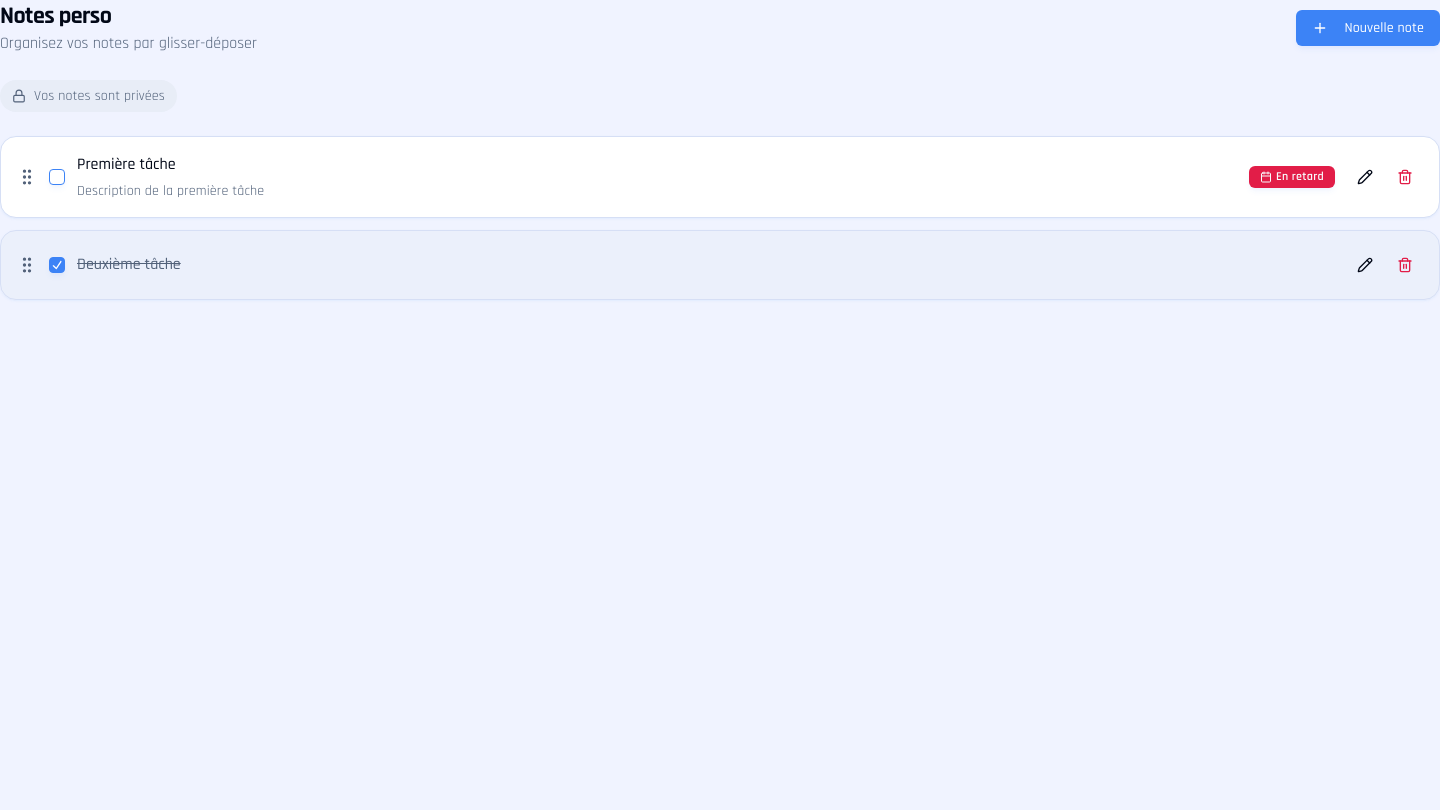
Test: TasksPageContent › ouvre le modal au clic sur "Nouvelle tâche"
The width and height of the screenshot is (1440, 810).
Click the button with test id "create-task-button" at (1368, 28), box [1296,10,1439,46]
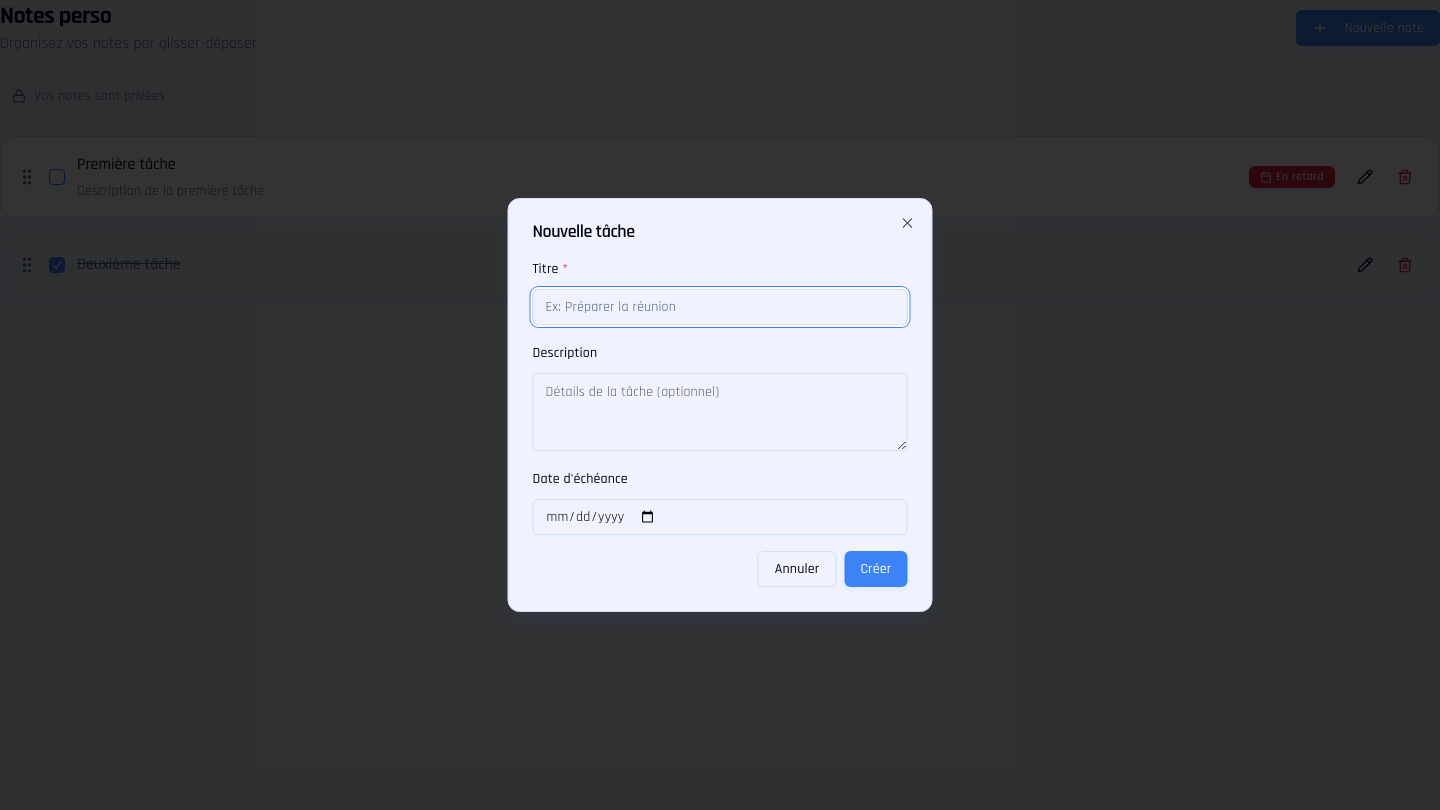
Result: the form with test id "task-form" is shown at [532,257,908,535]
